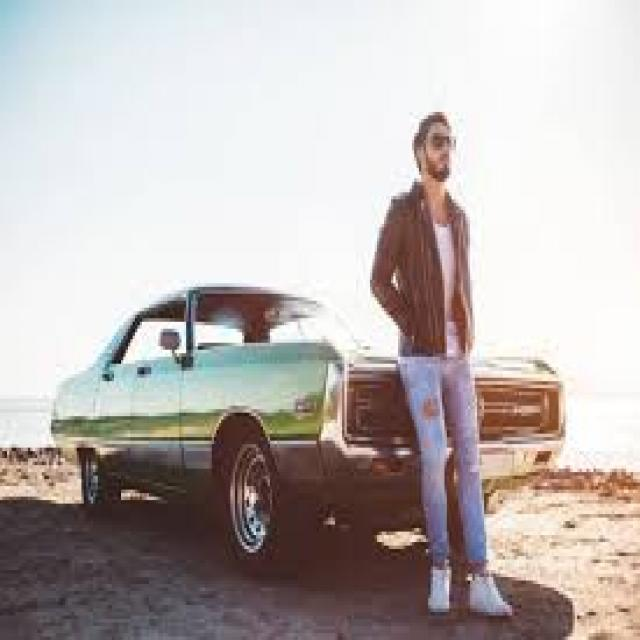car: (48, 264, 380, 582)
person: (366, 111, 546, 623)
